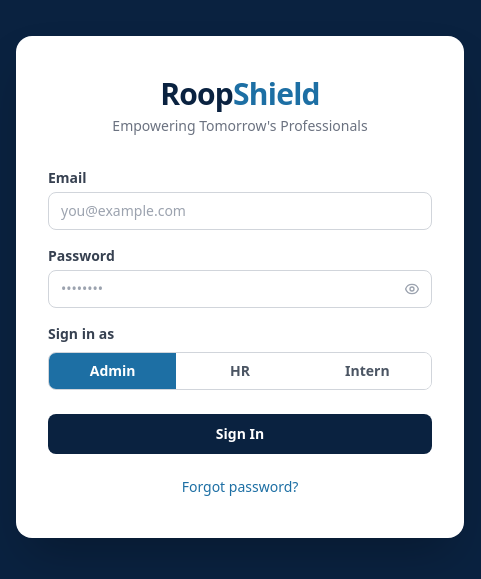
LoginPage — Requirement 2.2: Client-side validation › clears the email error when the user starts typing
Note: Trigger email error
Click the button "Sign In" at (240,434), box [48,414,432,454]
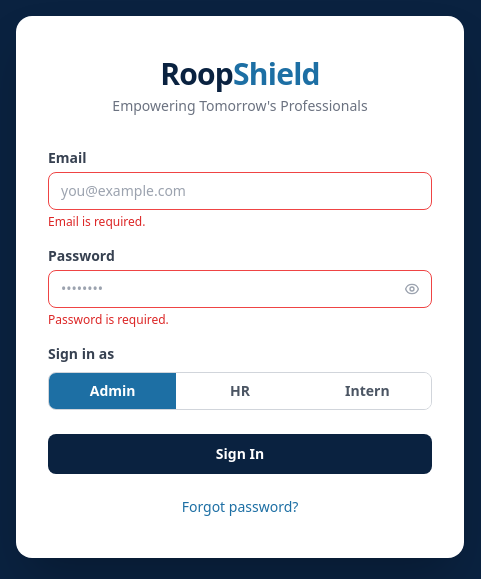
Check: the text "Email is required." is shown, box [48,213,145,230]
Note: Start typing — error should disappear
Type "a" into the field labelled "Email" at (240,191), box [48,172,432,210]
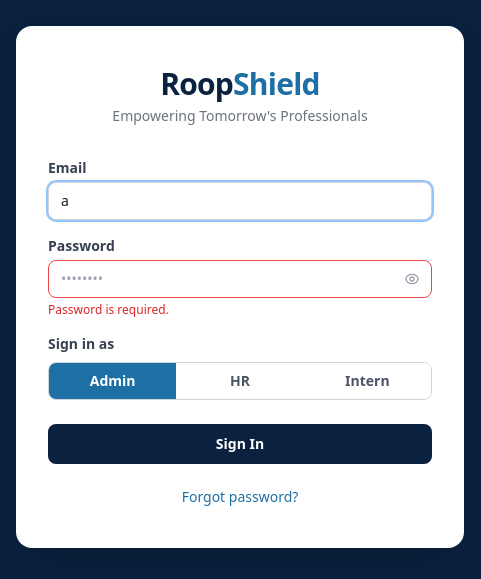
Check: the text "Email is required" is gone
